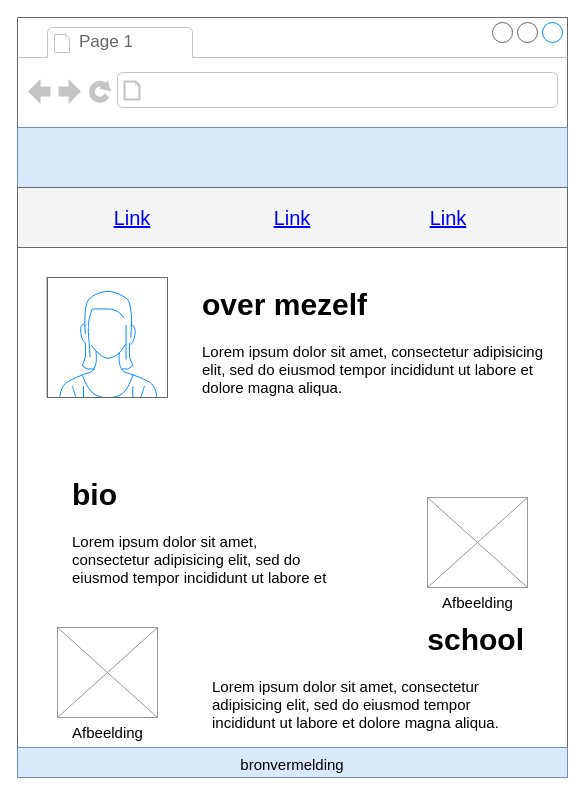
Image size: 585x795. Some labels were removed from this diagram. The centre of each missing label's shape, as x and y in pixels:
https://www.draw.io: (x=272, y=90)
titel: (x=292, y=157)
